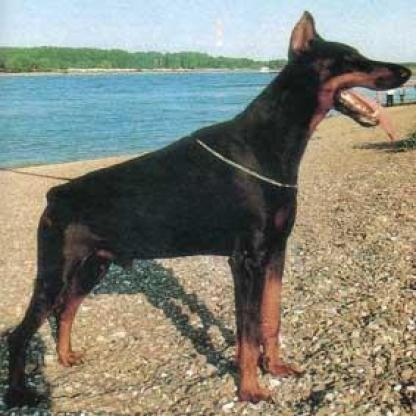Doberman: (7, 8, 410, 401)
